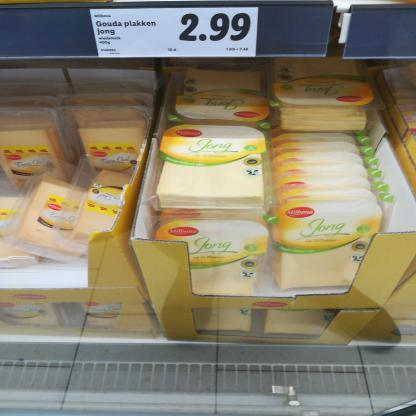prtg: (91, 9, 260, 59)
